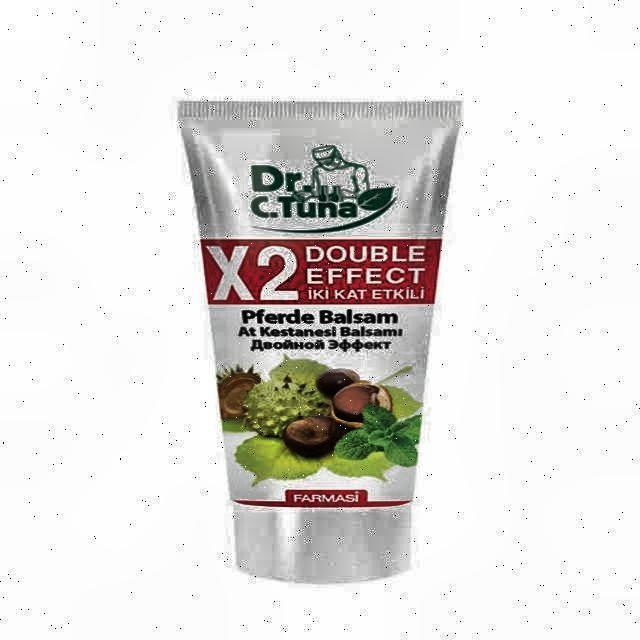plastic: (175, 84, 465, 589)
